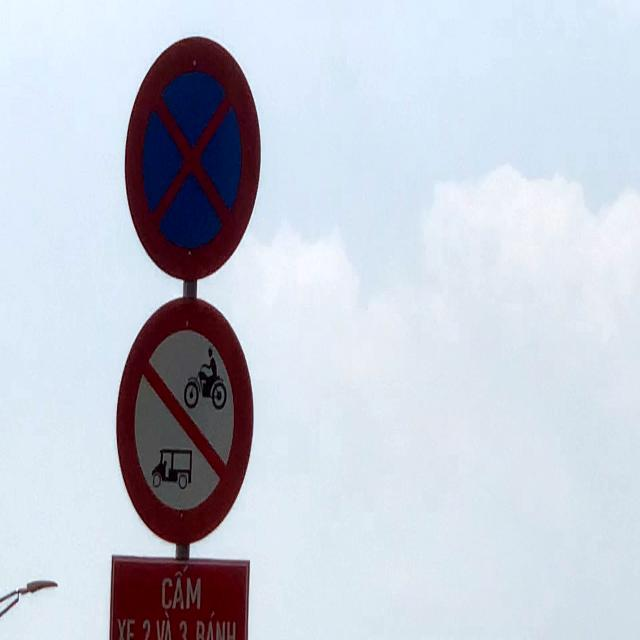P.130: (120, 28, 264, 290)
